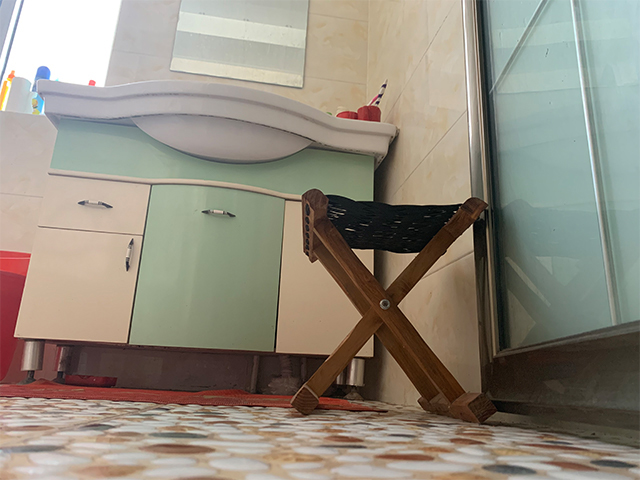cabinet: (12, 79, 400, 402)
carpet: (1, 377, 389, 414)
stool: (290, 188, 499, 424)
